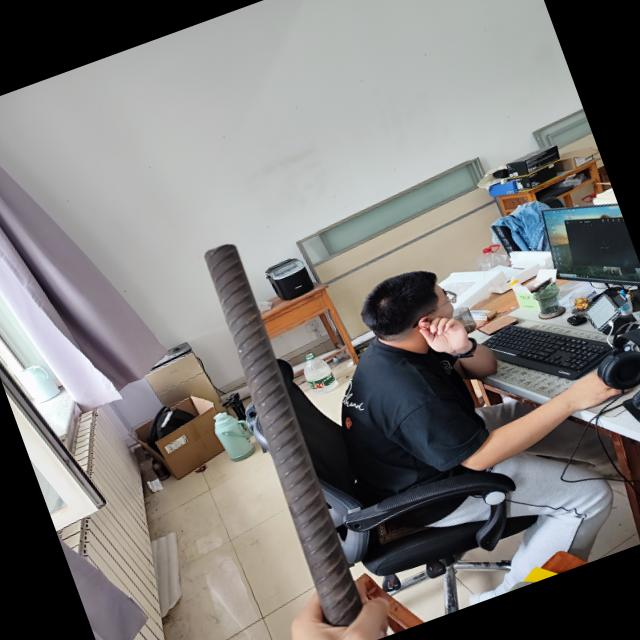ribbed bar: (188, 238, 378, 636)
